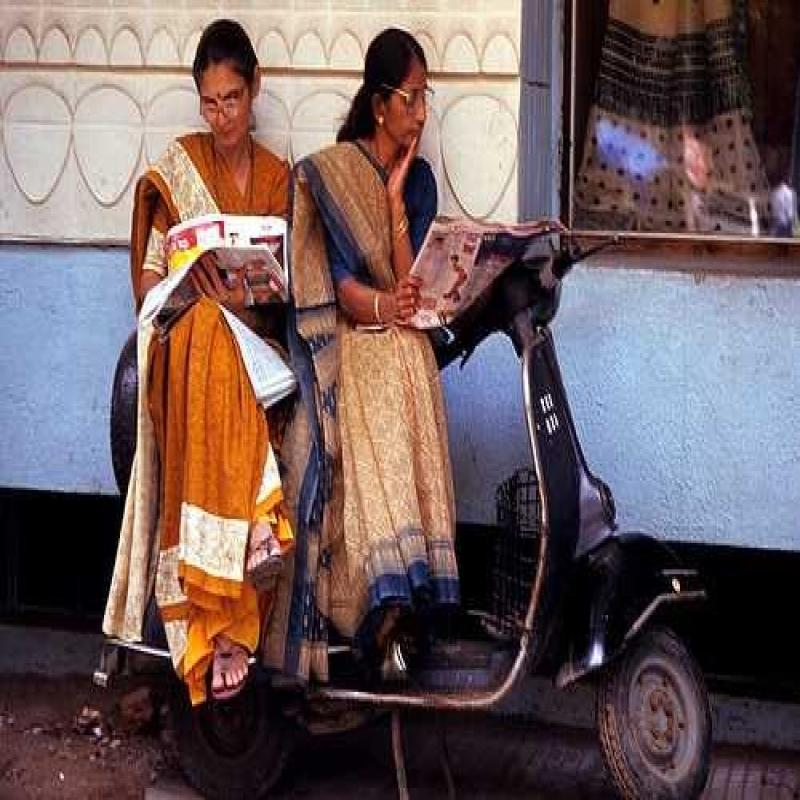bike: (456, 187, 723, 800)
